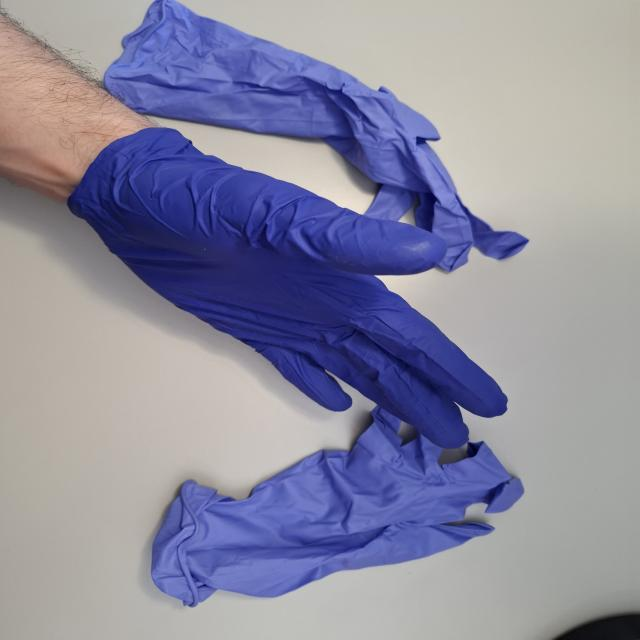glove_on: (66, 124, 515, 450)
